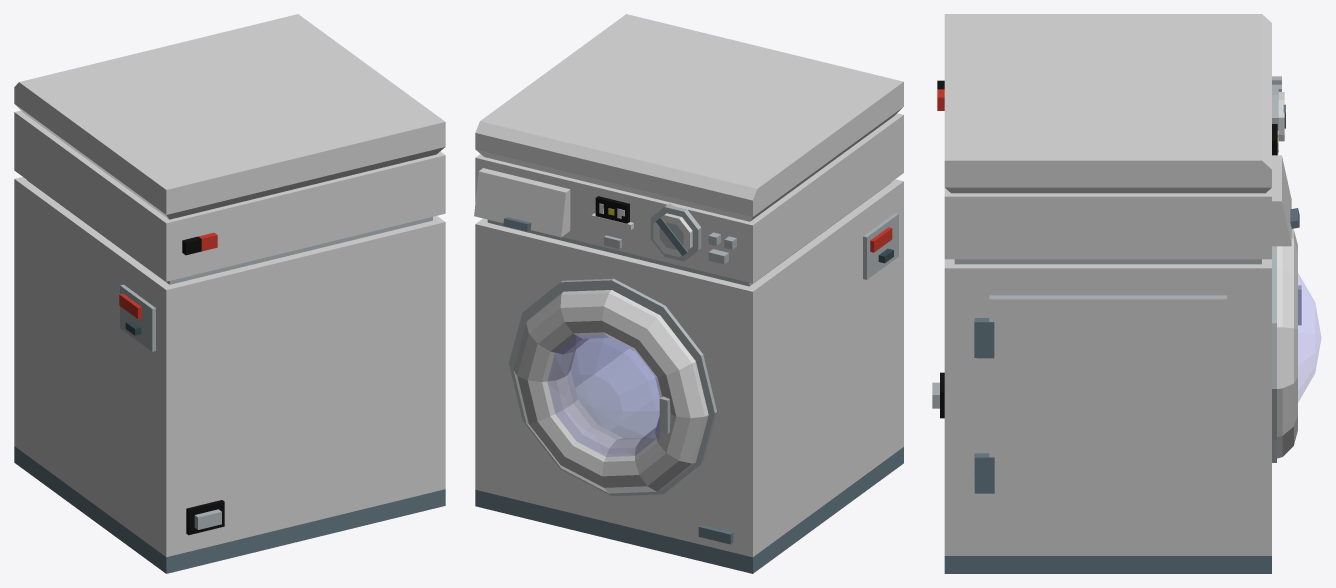
Rendered from washing_machine.gltf.
The picture shows the model from 3 angles, left to right: view 1: azimuth 30°, elevation 25°; view 2: azimuth 150°, elevation 25°; view 3: azimuth 270°, elevation 25°; orthographic projection. The views are drawn at different scales.
Visible parts, largest first — view 1: node_MeshObject1119664128-PolyPaper21; view 2: node_MeshObject1119664128-PolyPaper21, node_MeshObject1691743232-PolyGlass24; view 3: node_MeshObject1119664128-PolyPaper21, node_MeshObject1691743232-PolyGlass24.
Part boxes in pixels (<box>): node_MeshObject1119664128-PolyPaper21: <box>14,14,445,573</box>; node_MeshObject1119664128-PolyPaper21: <box>474,14,903,573</box>; node_MeshObject1691743232-PolyGlass24: <box>547,334,660,456</box>; node_MeshObject1119664128-PolyPaper21: <box>932,14,1301,573</box>; node_MeshObject1691743232-PolyGlass24: <box>1298,273,1321,401</box>.
Bounding box in the file's own units: 0.3741 × 0.46 × 0.3925.
